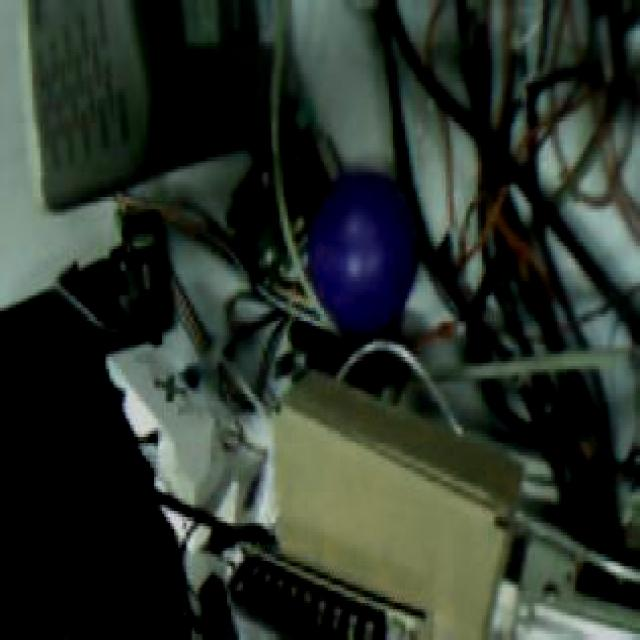BallPurple: (306, 165, 418, 335)
